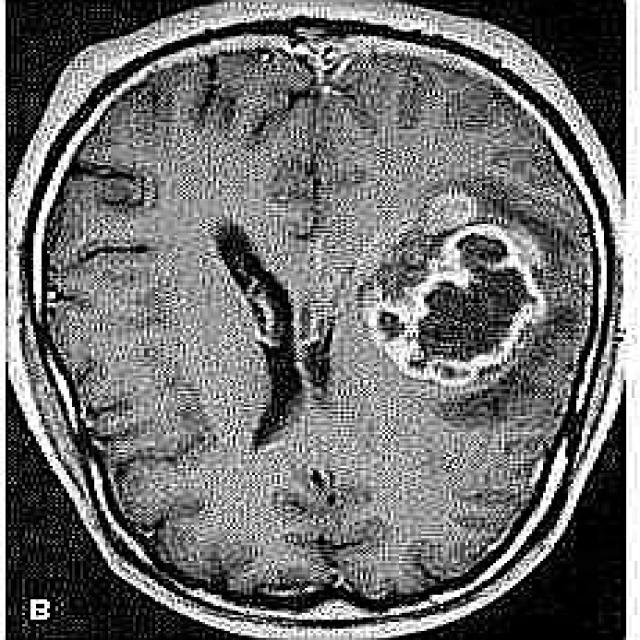Tumor-Cell: (376, 201, 528, 387)
